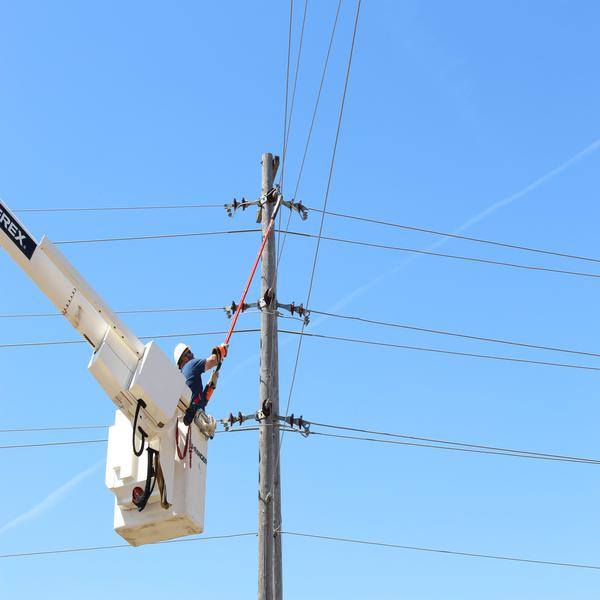utility_pole: (212, 133, 324, 454)
